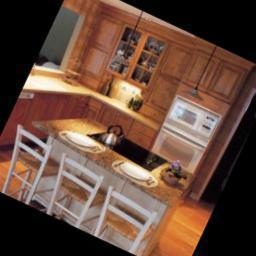Electrodomestico: (83, 117, 172, 177)
